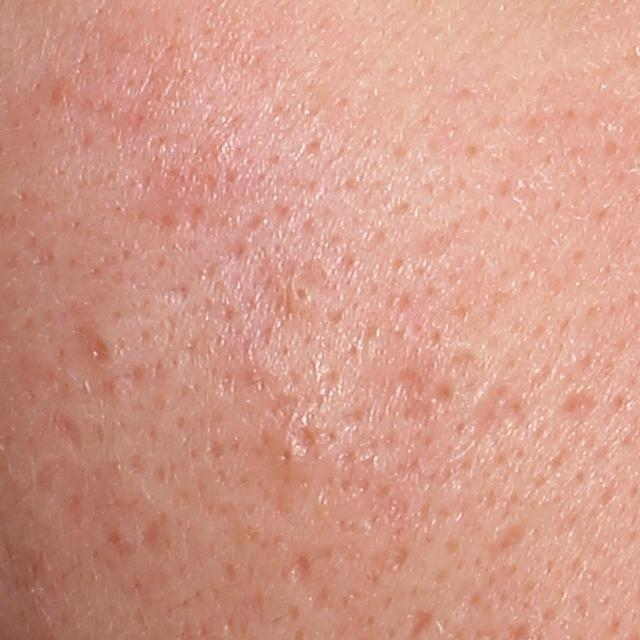atrophic_scar: (468, 384, 523, 439), (492, 519, 530, 557), (49, 412, 84, 451), (140, 517, 165, 554), (293, 423, 317, 455), (289, 553, 305, 582)
